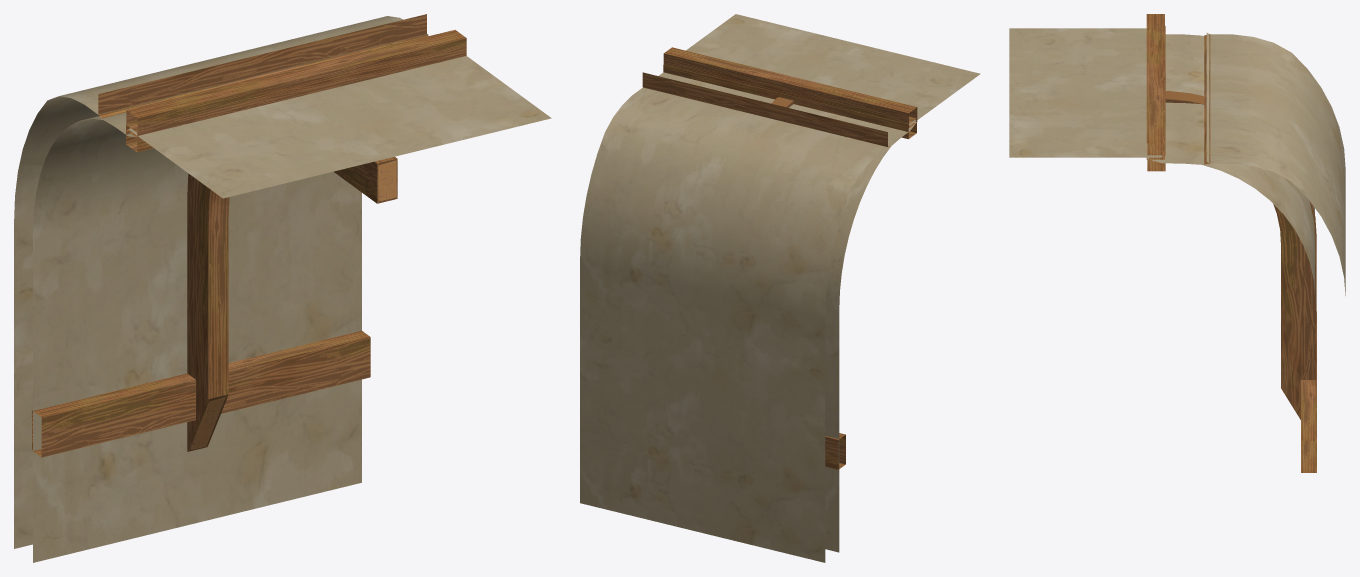
The model's file is Overhang_Plaster_Long.gltf.
3 renders of one model, left to right at view 1: azimuth 30°, elevation 25°; view 2: azimuth 150°, elevation 25°; view 3: azimuth 270°, elevation 25°, orthographic. The views are drawn at different scales.
Parts seen in each view (by area): view 1: Overhang_Plaster_Long; view 2: Overhang_Plaster_Long; view 3: Overhang_Plaster_Long.
Part boxes in pixels (x1,y1,x2,y2): Overhang_Plaster_Long: [14, 14, 551, 562]; Overhang_Plaster_Long: [580, 14, 980, 562]; Overhang_Plaster_Long: [1009, 14, 1345, 472].
Size of the model in its own units: 2 by 3.03 by 2.2.
2 materials, 2 textured.
